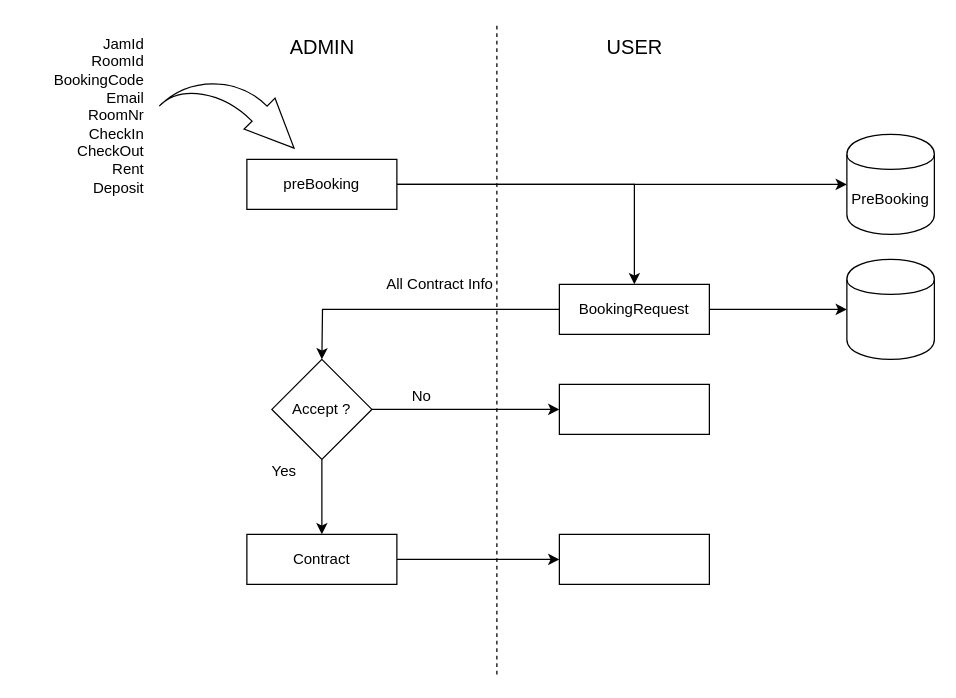
Image size: 956x698. Some labels were removed from this diagram. The centre of each missing label's shape, as x and y in pixels:
Bookings: (x=890, y=308)
Decline Message: (x=633, y=408)
Welcome Message: (x=633, y=558)
